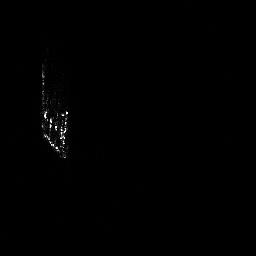ship: (39, 61, 70, 161)
